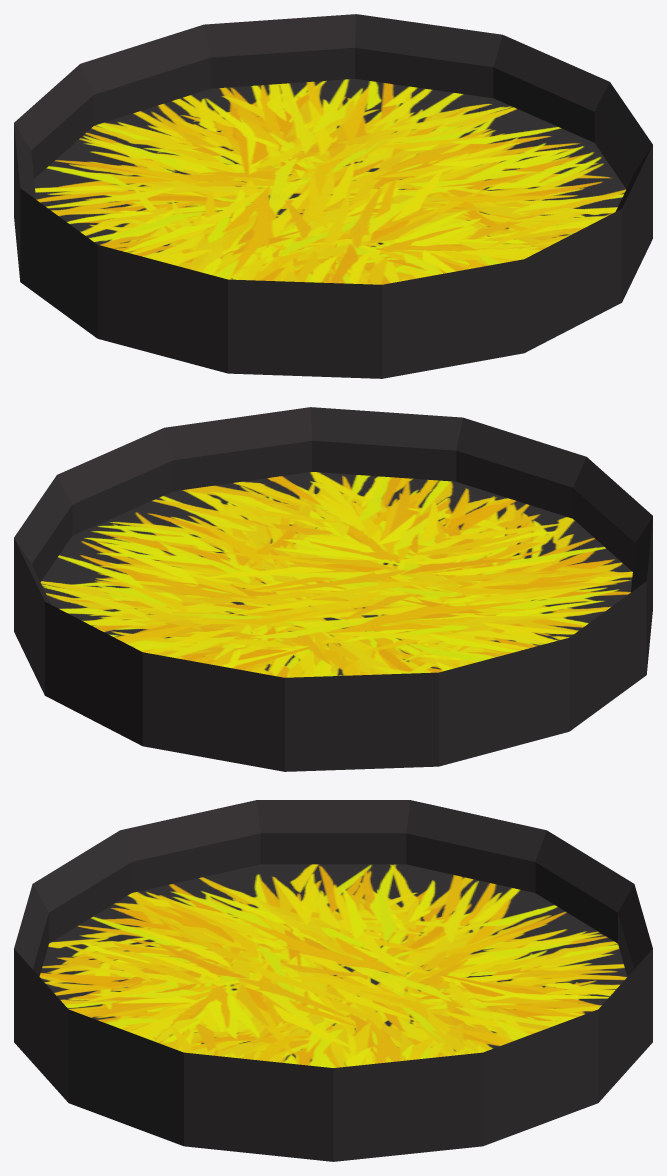
File: FeedingPot_Hay.fbx
The picture shows the model from 3 angles, top to bottom: view 1: azimuth 30°, elevation 25°; view 2: azimuth 150°, elevation 25°; view 3: azimuth 270°, elevation 25°; orthographic projection.
Visible parts, largest first — view 1: FeedingPot_Hay; view 2: FeedingPot_Hay; view 3: FeedingPot_Hay.
Part boxes in pixels (bbox=[...]): FeedingPot_Hay: bbox=[14, 14, 652, 378]; FeedingPot_Hay: bbox=[14, 407, 652, 771]; FeedingPot_Hay: bbox=[14, 800, 652, 1161].
Bounding box in the file's own units: 11.52 × 1.88 × 11.61.
1 material, 1 textured.
